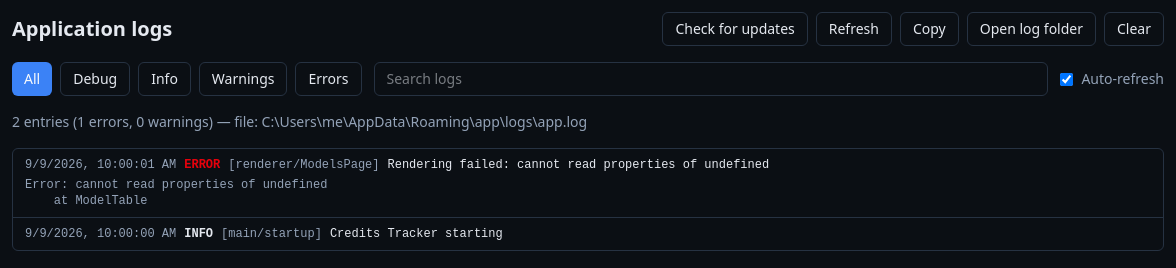
Test: LogsPage › filters by search text
This screenshot has width=1176, height=268.
Expected: the text "Credits Tracker starting" is shown, [330,226,503,242]
In the search field labelled "Search logs": (711, 79) [374,62,1048,96], type "ModelTable"
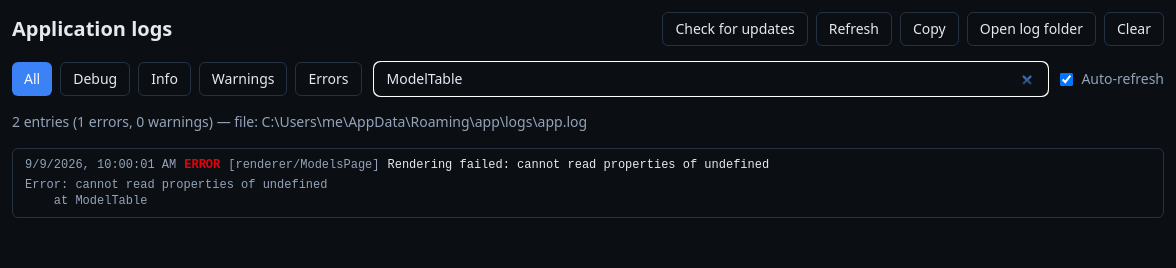
Expected: the text "Rendering failed: cannot read properties of undefined" is shown, [388,157,769,173]
Expected: the text "Credits Tracker starting" is gone
